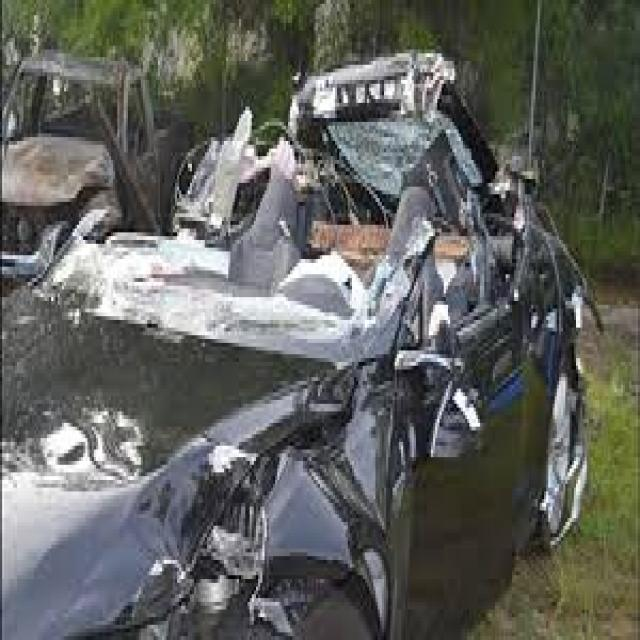accident: (0, 122, 640, 640), (4, 28, 160, 228)
